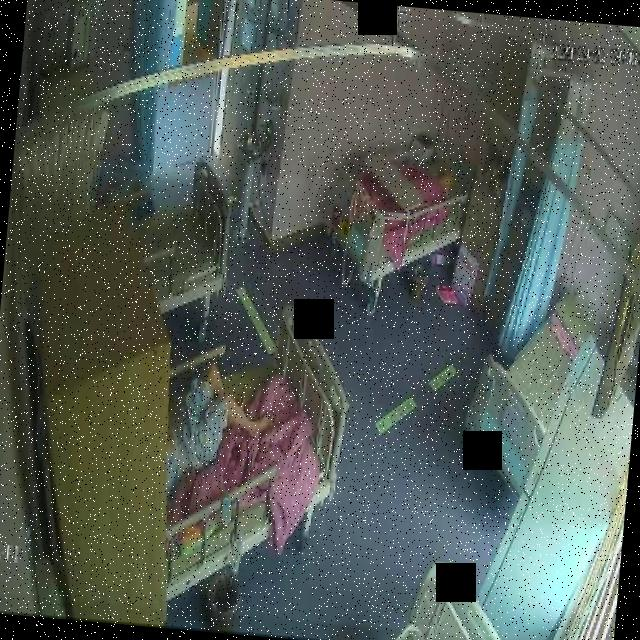bed: (153, 303, 350, 582), (460, 274, 594, 482), (320, 118, 476, 282), (130, 152, 238, 316)
lie: (160, 357, 279, 492)
patient: (158, 354, 278, 493), (424, 157, 458, 197)
